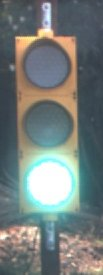Green: (6, 32, 85, 239)
